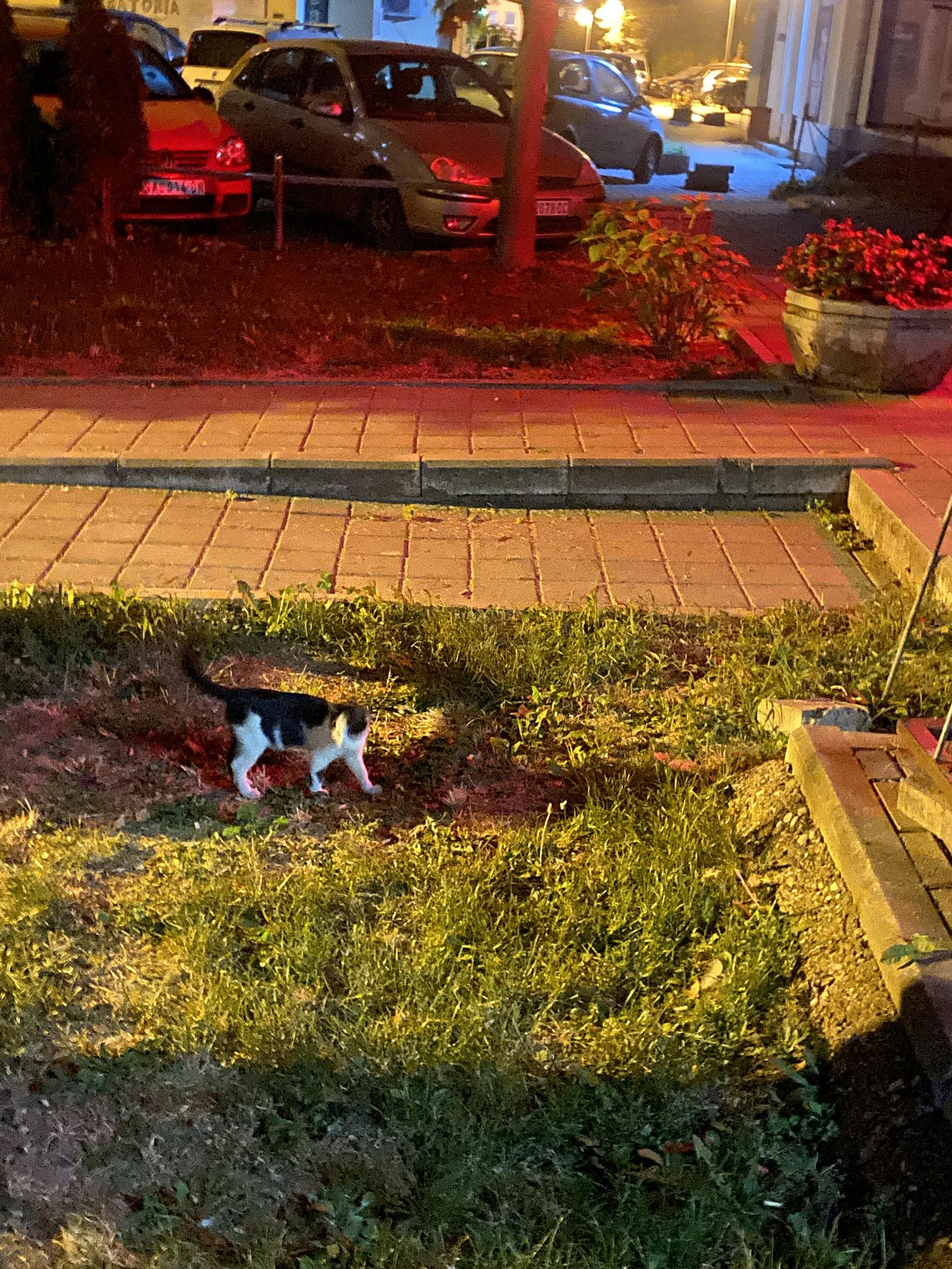macka: (178, 644, 383, 802)
